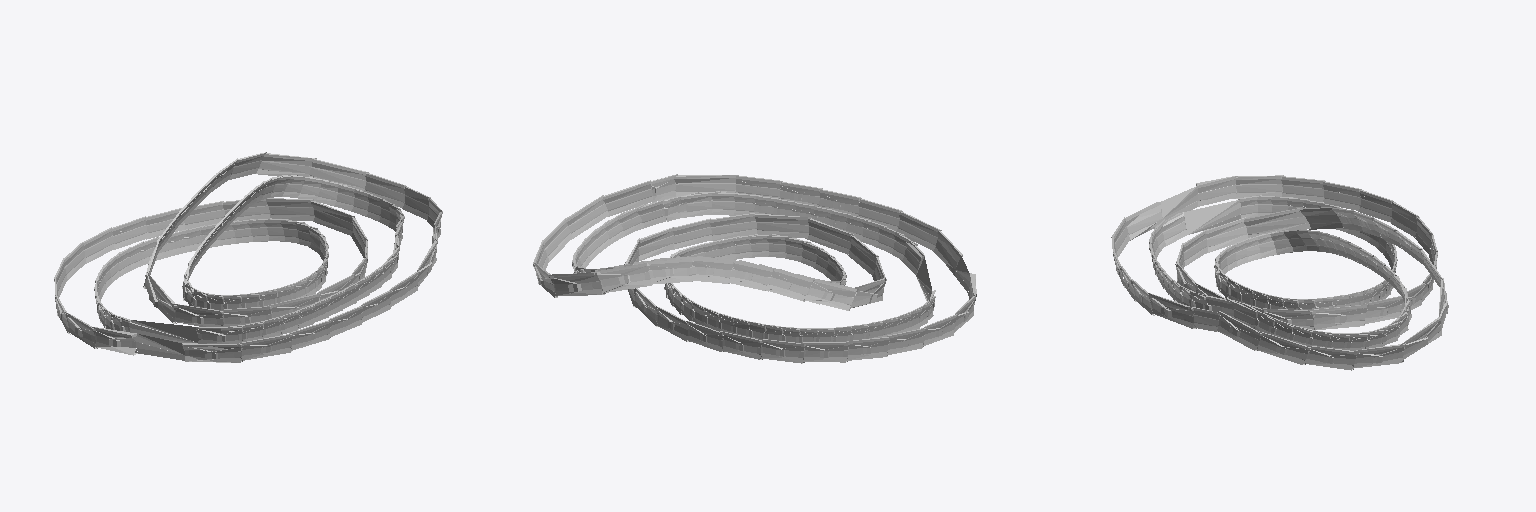
The model's file is wallhalf.obj.
3 renders of one model, left to right at view 1: azimuth 30°, elevation 25°; view 2: azimuth 150°, elevation 25°; view 3: azimuth 270°, elevation 25°, orthographic.
Bounding box in the file's own units: 199 × 36.51 × 154.